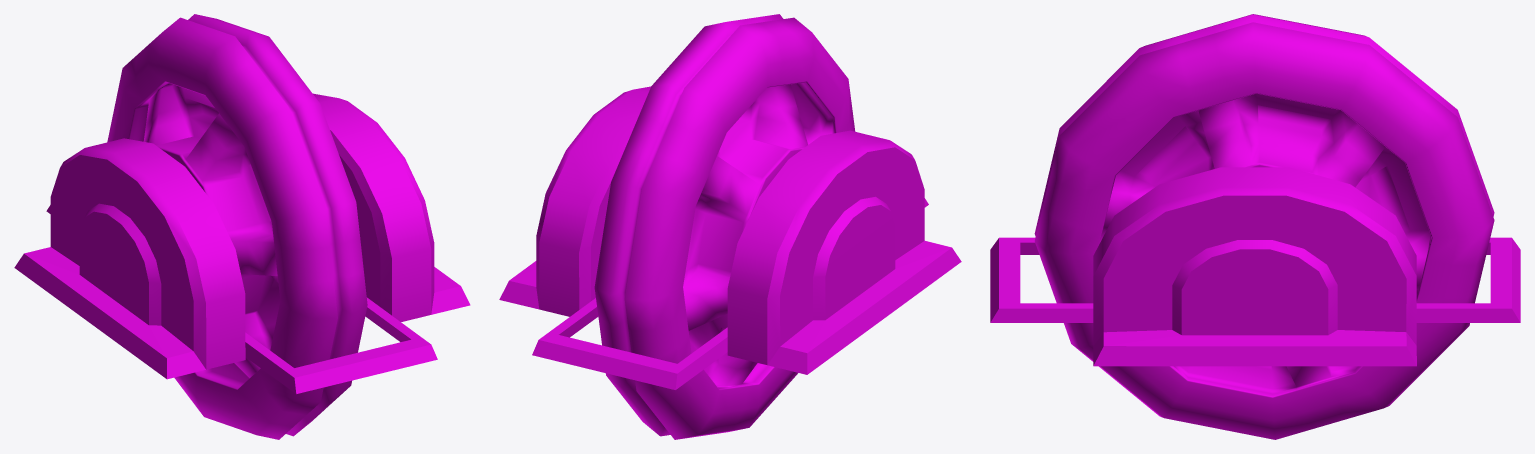
Rendered from roue_grp.fbx.
The picture shows the model from 3 angles, left to right: view 1: azimuth 30°, elevation 25°; view 2: azimuth 150°, elevation 25°; view 3: azimuth 270°, elevation 25°; orthographic projection. The views are drawn at different scales.
Parts seen in each view (by area): view 1: roue_msh, roue_01_msh, roue_02_msh, roue_base_msh; view 2: roue_msh, roue_01_msh, roue_02_msh, roue_base_msh; view 3: roue_msh, roue_02_msh, roue_base_msh.
Part boxes in pixels (left/top/right/bottom): roue_msh: left=107, top=14, right=367, bottom=439; roue_01_msh: left=14, top=138, right=245, bottom=379; roue_02_msh: left=313, top=93, right=470, bottom=321; roue_base_msh: left=46, top=205, right=437, bottom=393; roue_msh: left=594, top=14, right=855, bottom=439; roue_01_msh: left=727, top=130, right=961, bottom=374; roue_02_msh: left=499, top=86, right=650, bottom=316; roue_base_msh: left=532, top=198, right=928, bottom=389; roue_msh: left=1034, top=14, right=1494, bottom=439; roue_02_msh: left=1093, top=167, right=1416, bottom=366; roue_base_msh: left=990, top=237, right=1520, bottom=322.
Size of the model in its own units: 102 by 125 by 145.
